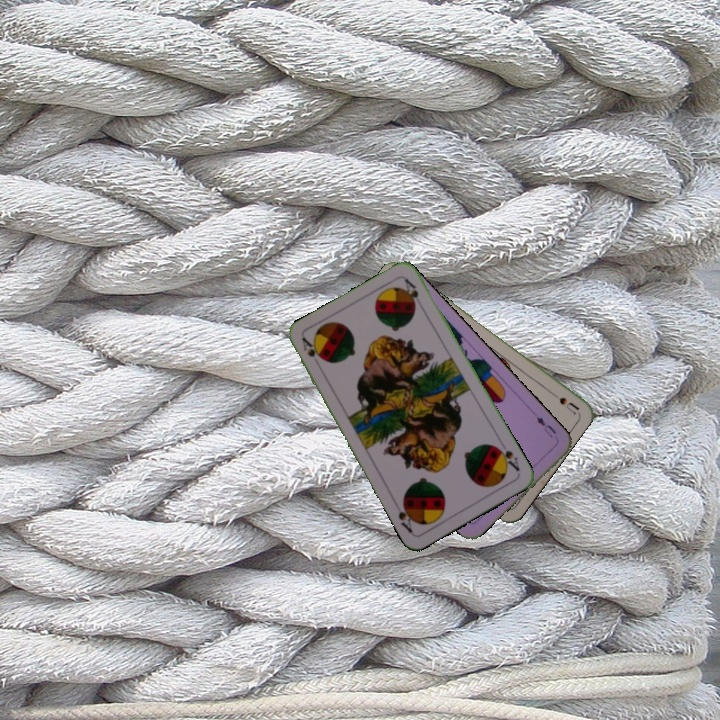EU: (532, 412, 559, 440)
SA: (491, 442, 522, 474), (298, 334, 324, 372)
SU: (544, 386, 581, 416)
